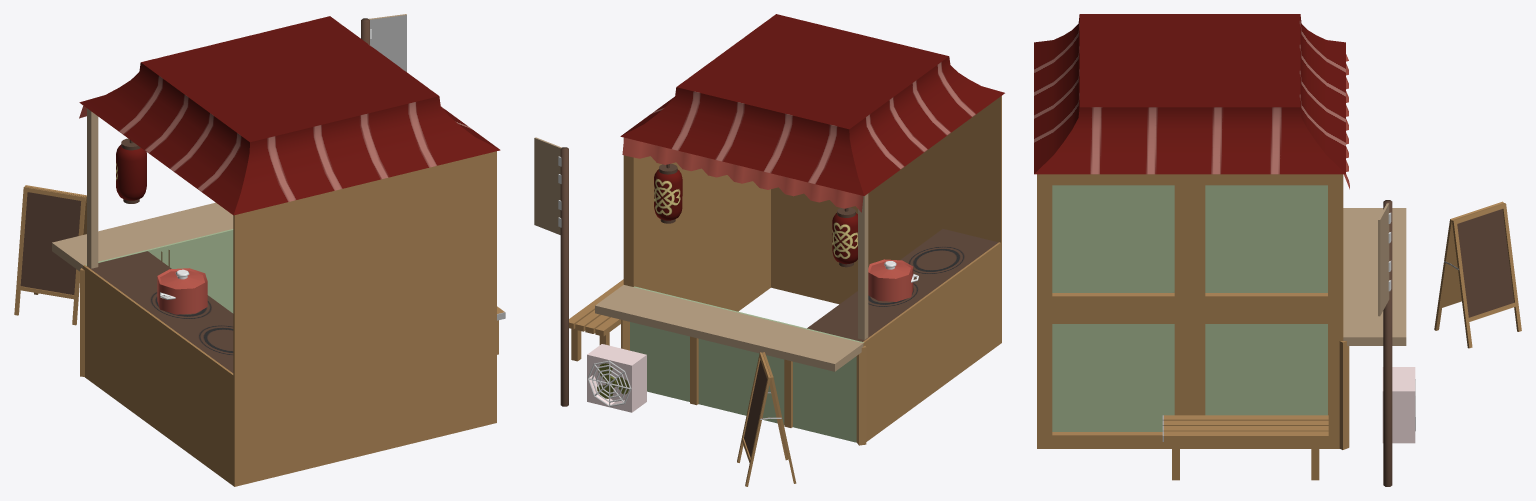
Rendered from Jap_st_2lvl.glb.
3 renders of one model, left to right at view 1: azimuth 30°, elevation 25°; view 2: azimuth 150°, elevation 25°; view 3: azimuth 270°, elevation 25°, orthographic. The views are drawn at different scales.
Visible parts, largest first — view 1: japon_Plane.003; view 2: japon_Plane.003; view 3: japon_Plane.003.
Boxes of the visible parts, x1,y1,x2,y2 form: japon_Plane.003: (14,14,505,486); japon_Plane.003: (534,14,1004,486); japon_Plane.003: (1034,14,1521,486).
Size of the model in its own units: 1.71 by 1.59 by 2.07.
Materials: 1 (1 with a texture image).
